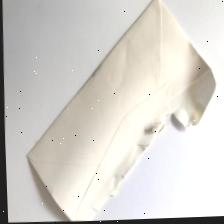paper: (12, 0, 217, 224)
